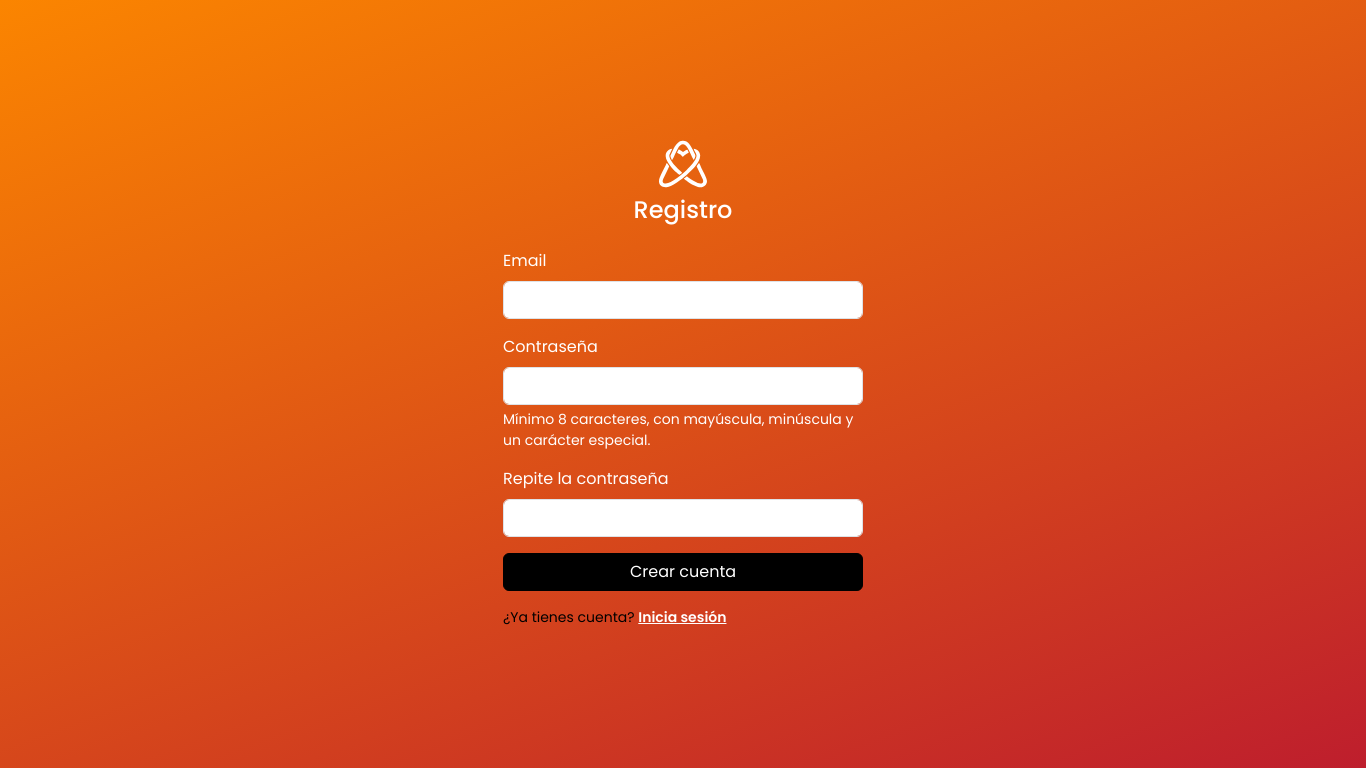
RegisterComponent (tarea 12.3) › muestra un mensaje especifico si Supabase limita el envio de emails (429)
The width and height of the screenshot is (1366, 768).
In the field with id "email": (683, 300) [503, 281, 863, 319], type "nueva@example.com"
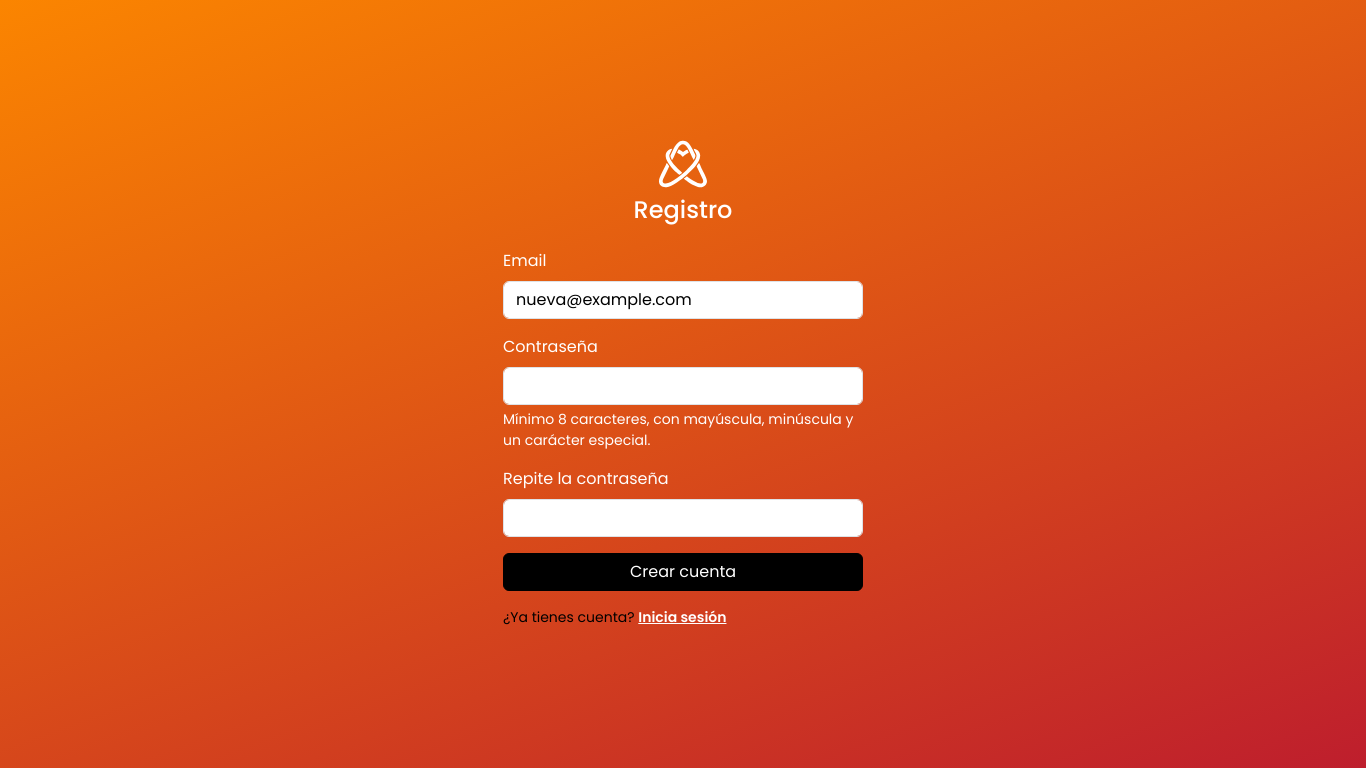
In the password field labelled "Contraseña": (683, 386) [503, 367, 863, 405], type "ContraseñaLarga1!"
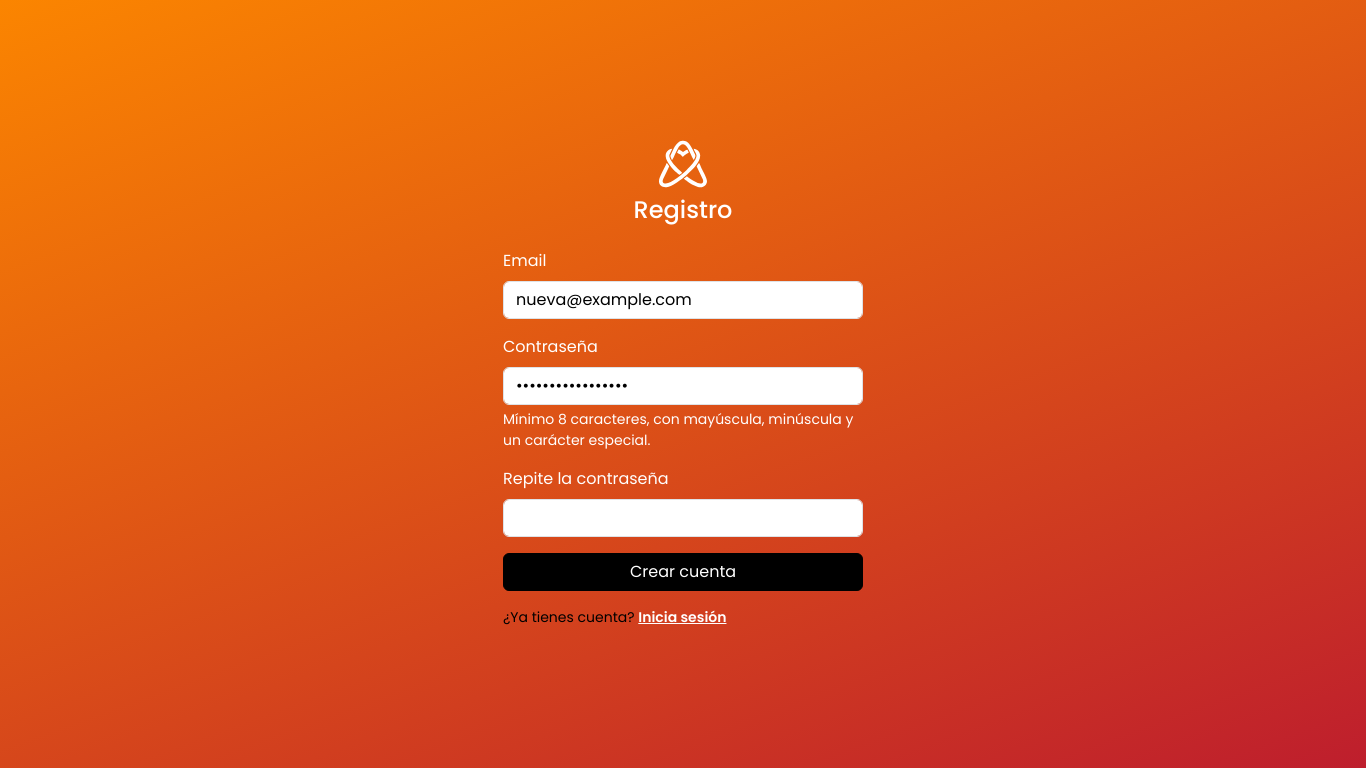
In the password field labelled "Repite la contraseña": (683, 518) [503, 499, 863, 537], type "ContraseñaLarga1!"
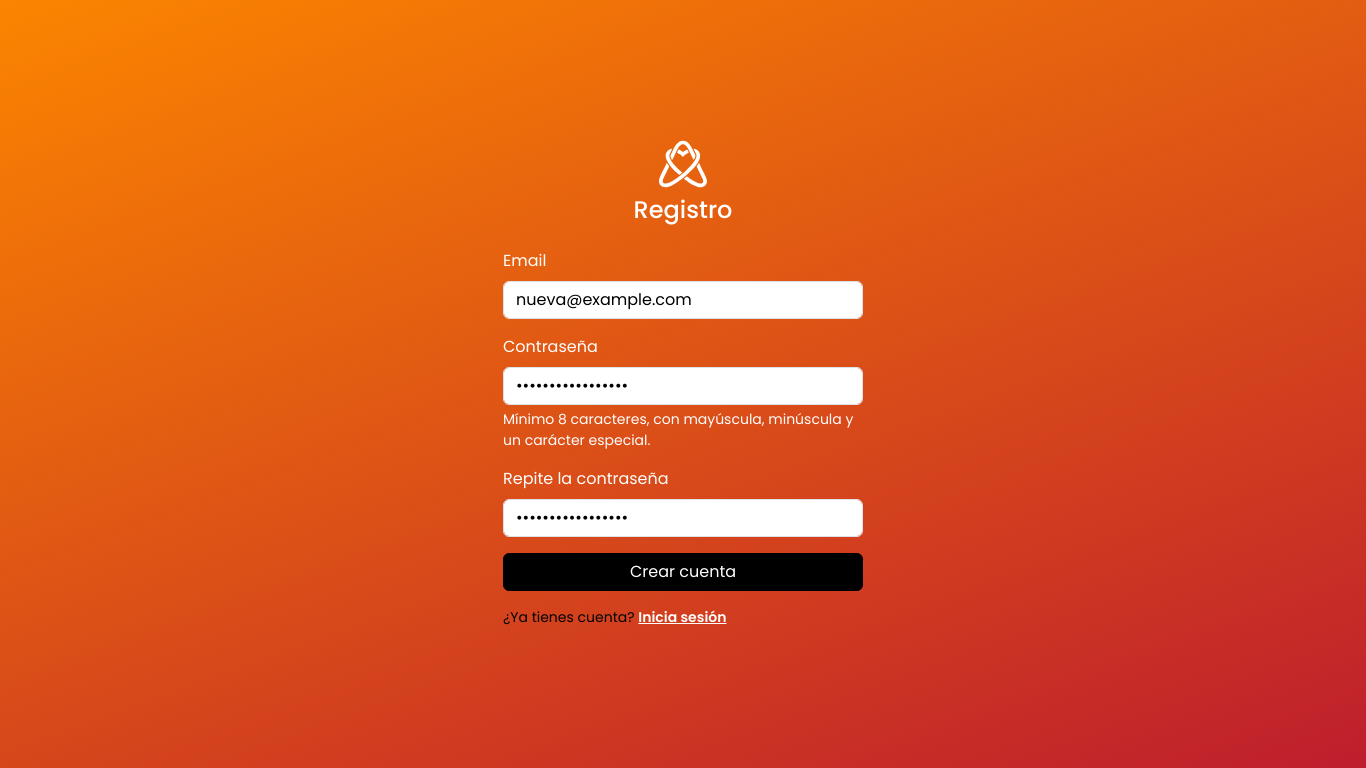
Submit the form, box [503, 249, 863, 628]
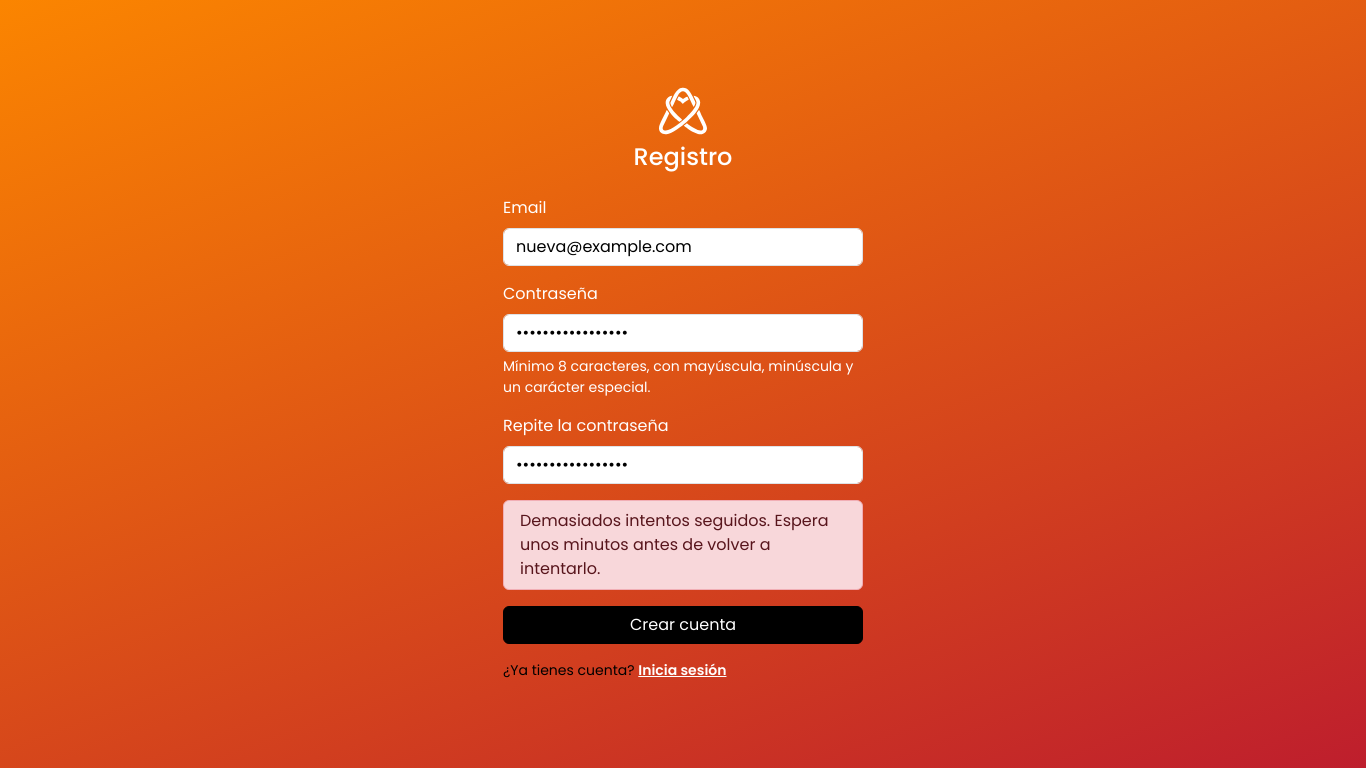
Now the message with class "alert-danger" shows "Demasiados intentos", box [520, 509, 828, 580]
